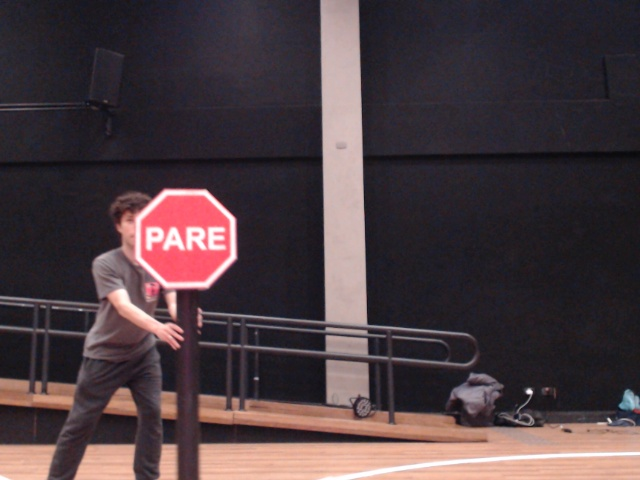SEMAFORO: (124, 180, 262, 307)
